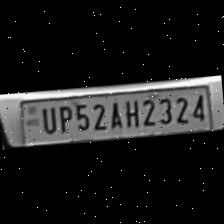2: (88, 98, 108, 130), (137, 94, 157, 126), (170, 92, 190, 124)
3: (154, 94, 174, 124)
4: (186, 90, 208, 121)
5: (72, 100, 90, 131)
A: (104, 97, 124, 129)
H: (122, 96, 140, 128)
P: (54, 102, 74, 132)
U: (37, 103, 58, 134)
